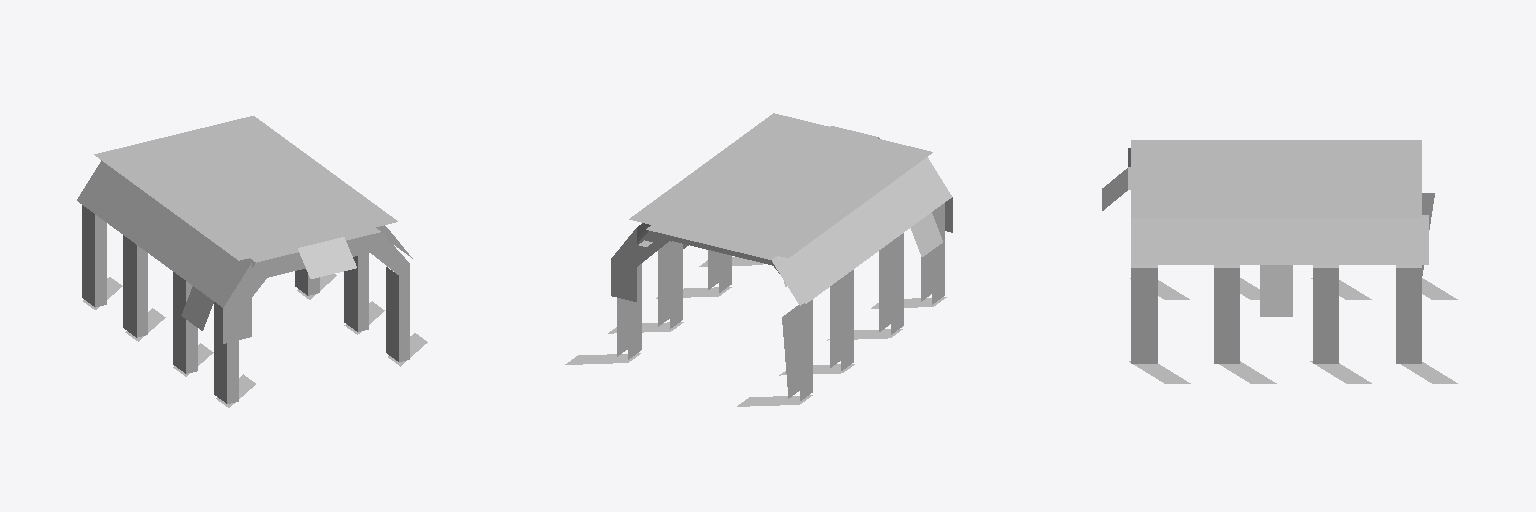
Rendered from Striaton City Garden Archway.obj.
The picture shows the model from 3 angles: view 1: azimuth 30°, elevation 25°; view 2: azimuth 150°, elevation 25°; view 3: azimuth 270°, elevation 25°; orthographic projection.
Parts seen in each view (by area): view 1: polygon1, polygon2, polygon0; view 2: polygon1, polygon2, polygon0; view 3: polygon1, polygon2, polygon0.
Part boxes in pixels (left/top/right/bottom): polygon1: left=77, top=116, right=412, bottom=343; polygon2: left=82, top=205, right=409, bottom=403; polygon0: left=83, top=274, right=427, bottom=407; polygon1: left=611, top=113, right=952, bottom=303; polygon2: left=617, top=203, right=944, bottom=400; polygon0: left=565, top=257, right=946, bottom=406; polygon1: left=1102, top=140, right=1428, bottom=316; polygon2: left=1131, top=193, right=1434, bottom=363; polygon0: left=1129, top=278, right=1457, bottom=383.
Size of the model in its own units: 80 by 48 by 108.